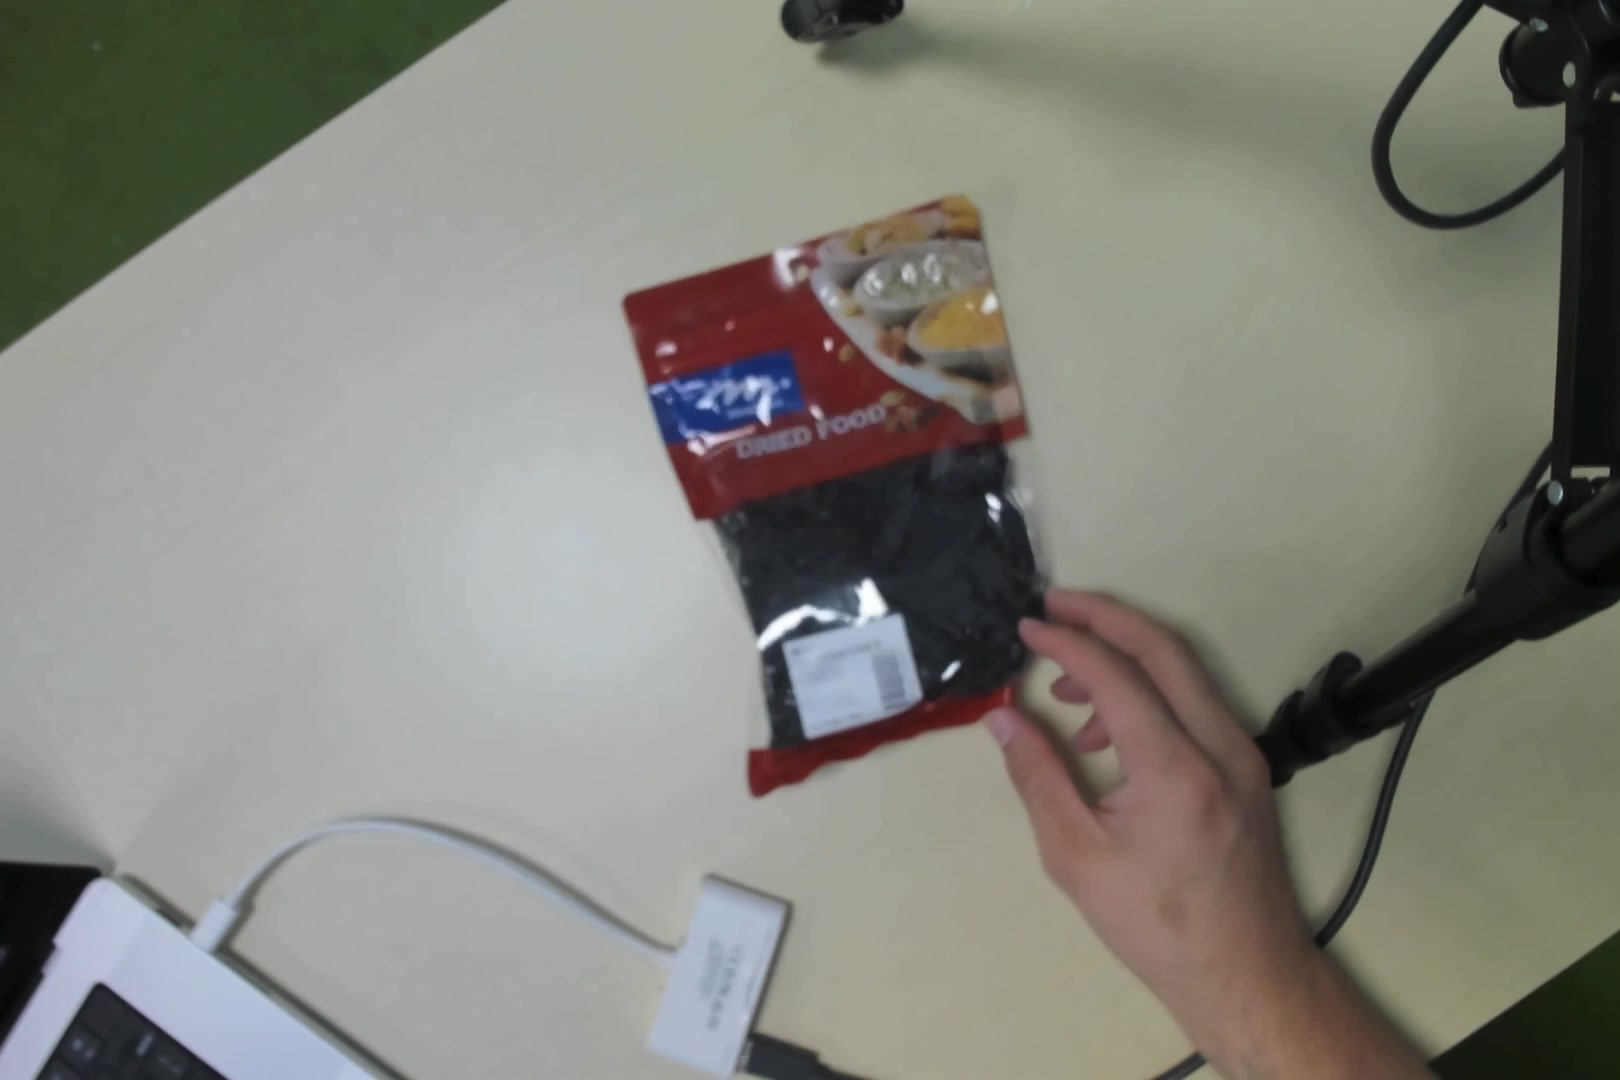OtherDriedFood_100-199g_NonHalal_NonHealthy: (704, 247, 1049, 749)
